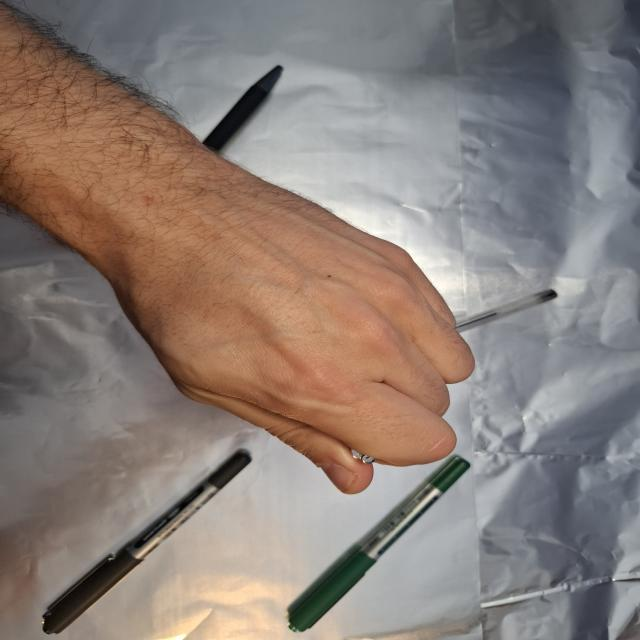glove_off: (89, 175, 478, 497)
